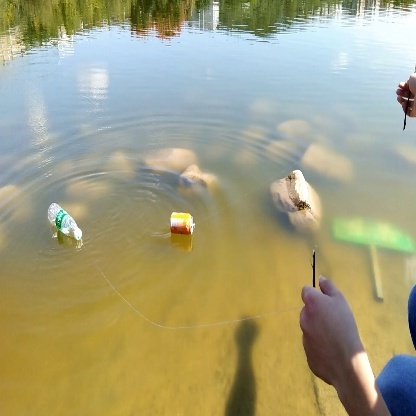bottle: (46, 199, 85, 241), (166, 204, 199, 238)
